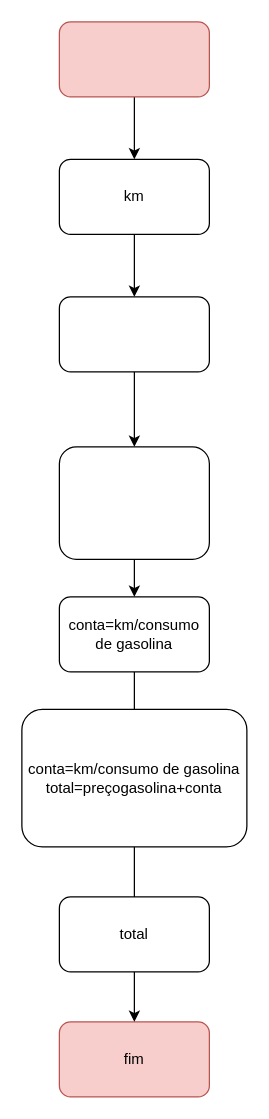
This 269x1119 diagram has some shape labels left out. The centre of each missing label's shape, as x and y in pixels:
"consulta de gasolina" goes at [133,334].
"inicio" goes at [133,59].
"preço da gasolina" goes at [133,502].
